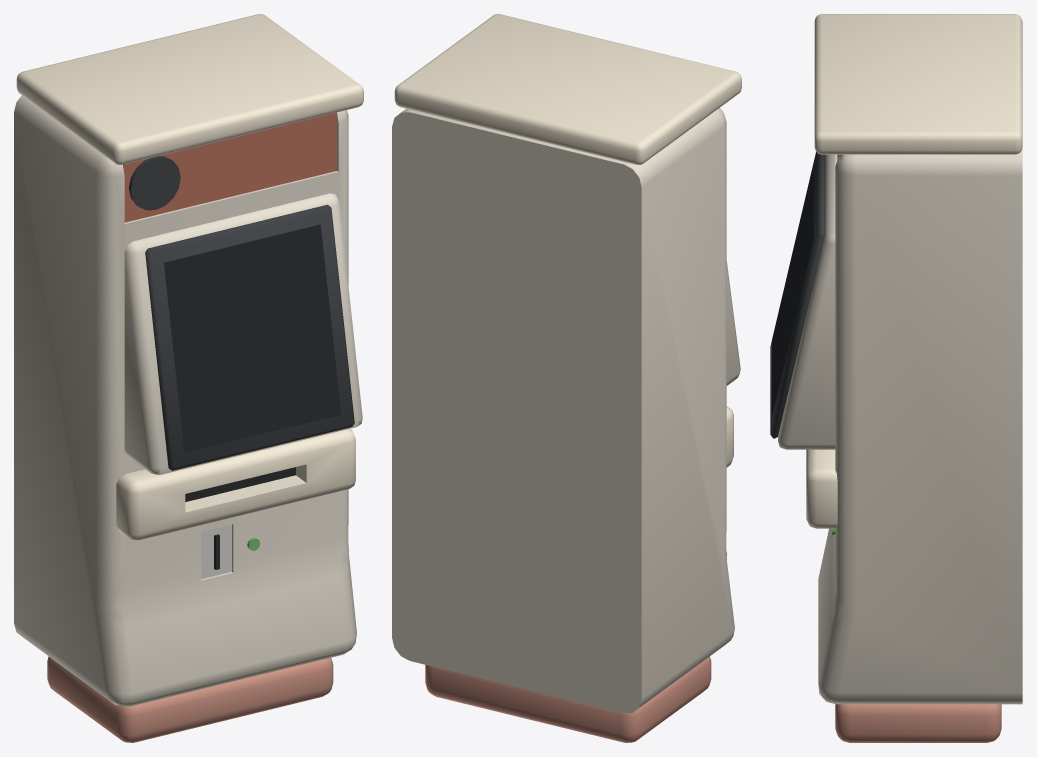
File: borne.glb
3 views of the same model, side by side, from view 1: azimuth 30°, elevation 25°; view 2: azimuth 150°, elevation 25°; view 3: azimuth 270°, elevation 25° (orthographic).
Parts seen in each view (by area): view 1: BOR_Struct, BOR_Creme, BOR_Affichage, BOR_Anthracite, BOR_Terracotta_Base, BOR_Terracotta_Clair, BOR_Gris_Clair, BOR_Noir; view 2: BOR_Struct, BOR_Creme, BOR_Terracotta_Clair; view 3: BOR_Struct, BOR_Creme, BOR_Terracotta_Clair, BOR_Anthracite, BOR_Affichage.
Part boxes in pixels (bbox=[...]): BOR_Struct: bbox=[14, 95, 362, 706]; BOR_Creme: bbox=[16, 14, 363, 540]; BOR_Affichage: bbox=[164, 224, 341, 452]; BOR_Anthracite: bbox=[129, 156, 354, 470]; BOR_Terracotta_Base: bbox=[123, 112, 336, 222]; BOR_Terracotta_Clair: bbox=[47, 656, 333, 742]; BOR_Gris_Clair: bbox=[201, 524, 231, 578]; BOR_Noir: bbox=[185, 467, 295, 569]; BOR_Struct: bbox=[392, 108, 740, 712]; BOR_Creme: bbox=[394, 14, 741, 467]; BOR_Terracotta_Clair: bbox=[425, 656, 711, 742]; BOR_Struct: bbox=[778, 147, 1022, 704]; BOR_Creme: bbox=[806, 14, 1022, 528]; BOR_Terracotta_Clair: bbox=[835, 704, 1001, 742]; BOR_Anthracite: bbox=[770, 152, 825, 438]; BOR_Affichage: bbox=[772, 163, 813, 416].
Size of the model in its own units: 0.7 by 1.65 by 0.6058.
